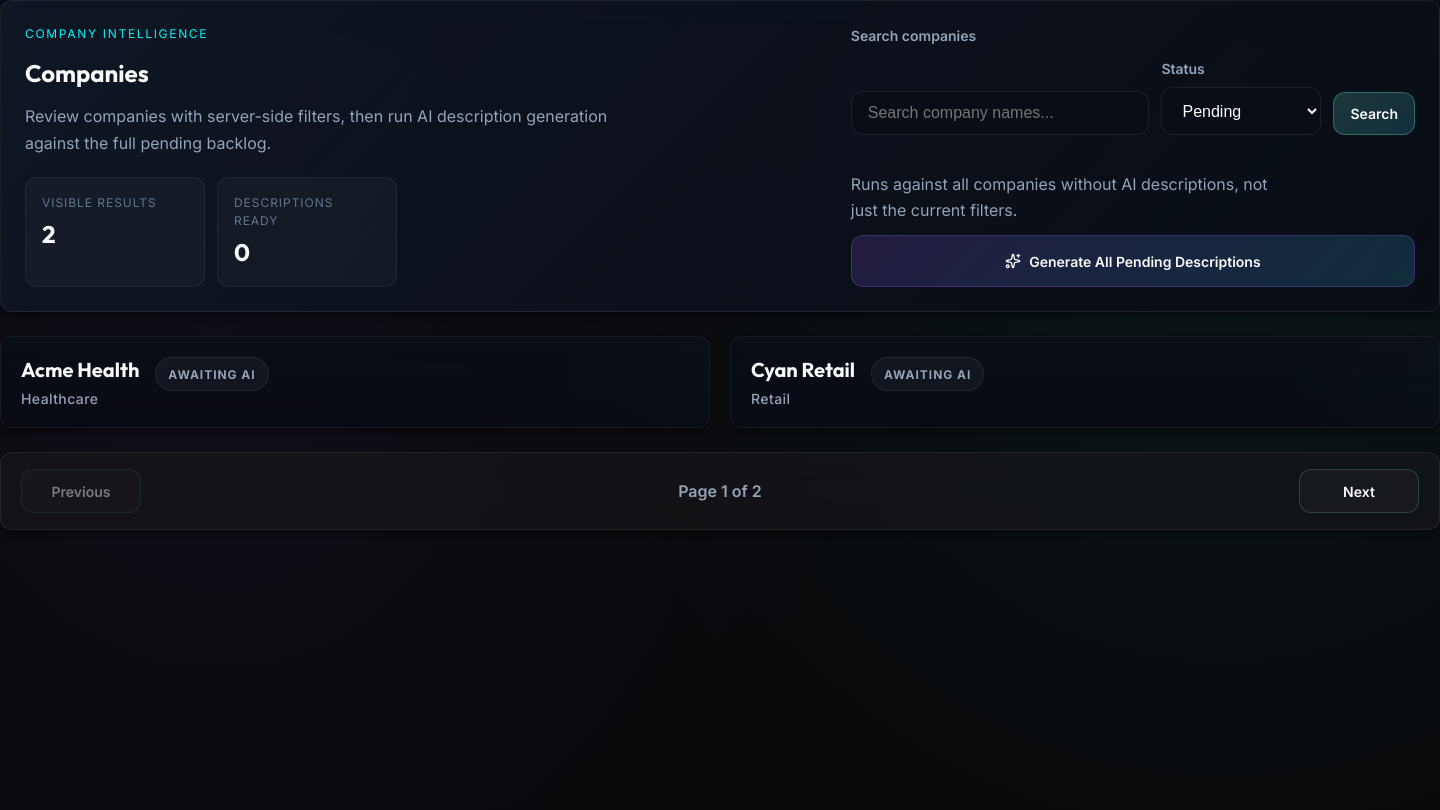
CompaniesPage › creates a persisted global run and refreshes the current page after completion
Expected: the heading "Acme Health" is shown, top-left (21, 357), bottom-right (139, 382)
Click the button "Generate All Pending Descriptions" at (1133, 261), box top-left (851, 235), bottom-right (1415, 287)
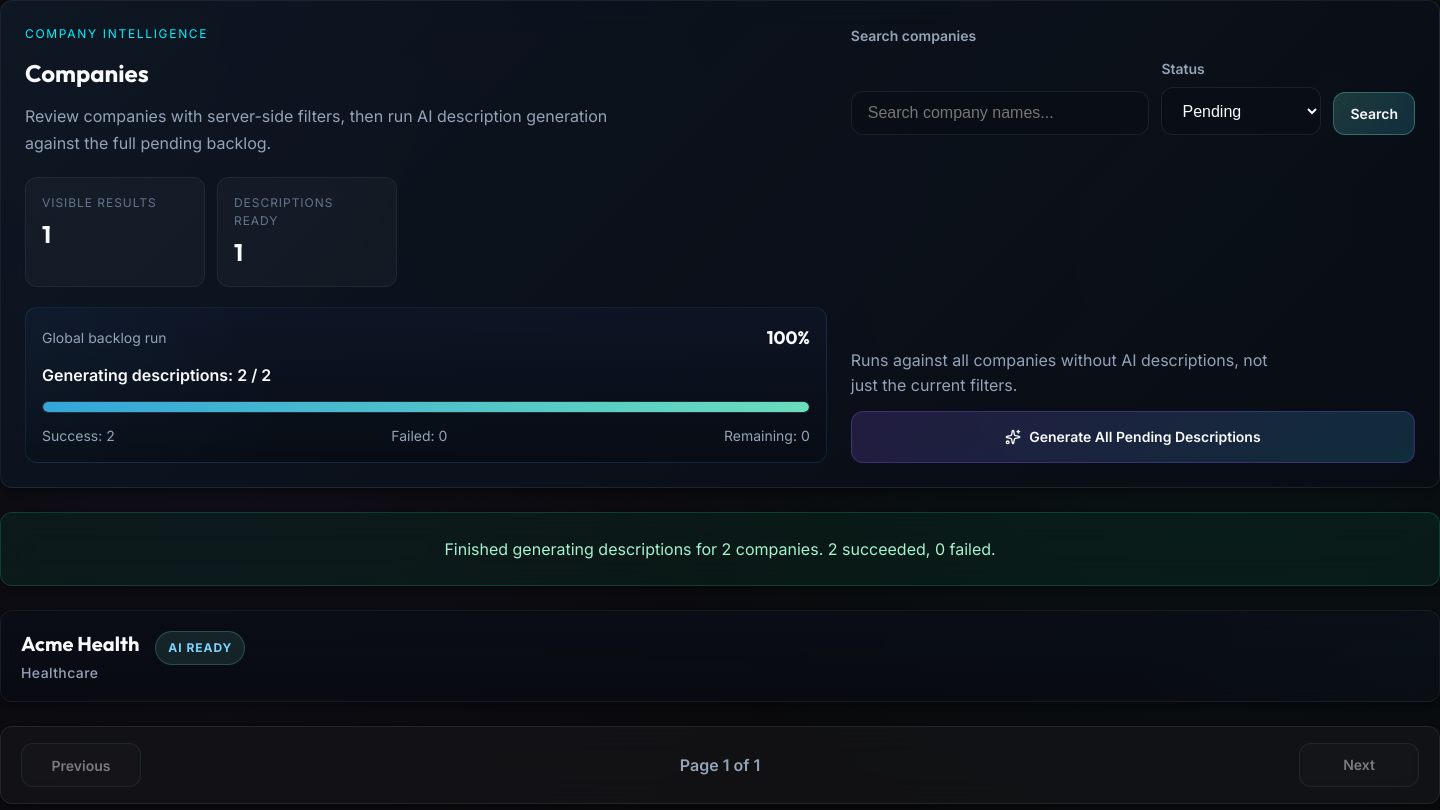
Expected: the text "Global backlog run" is shown, top-left (42, 327), bottom-right (166, 348)
Expected: the text "Generating descriptions: 2 / 2" is shown, top-left (42, 365), bottom-right (271, 385)
Expected: the text "Finished generating descriptions for 2 companies. 2 succeeded, 0 failed." is shown, top-left (0, 512), bottom-right (1439, 586)
Click the button with aria-label "open details for acme health" at (80, 643), box top-left (0, 610), bottom-right (1439, 702)
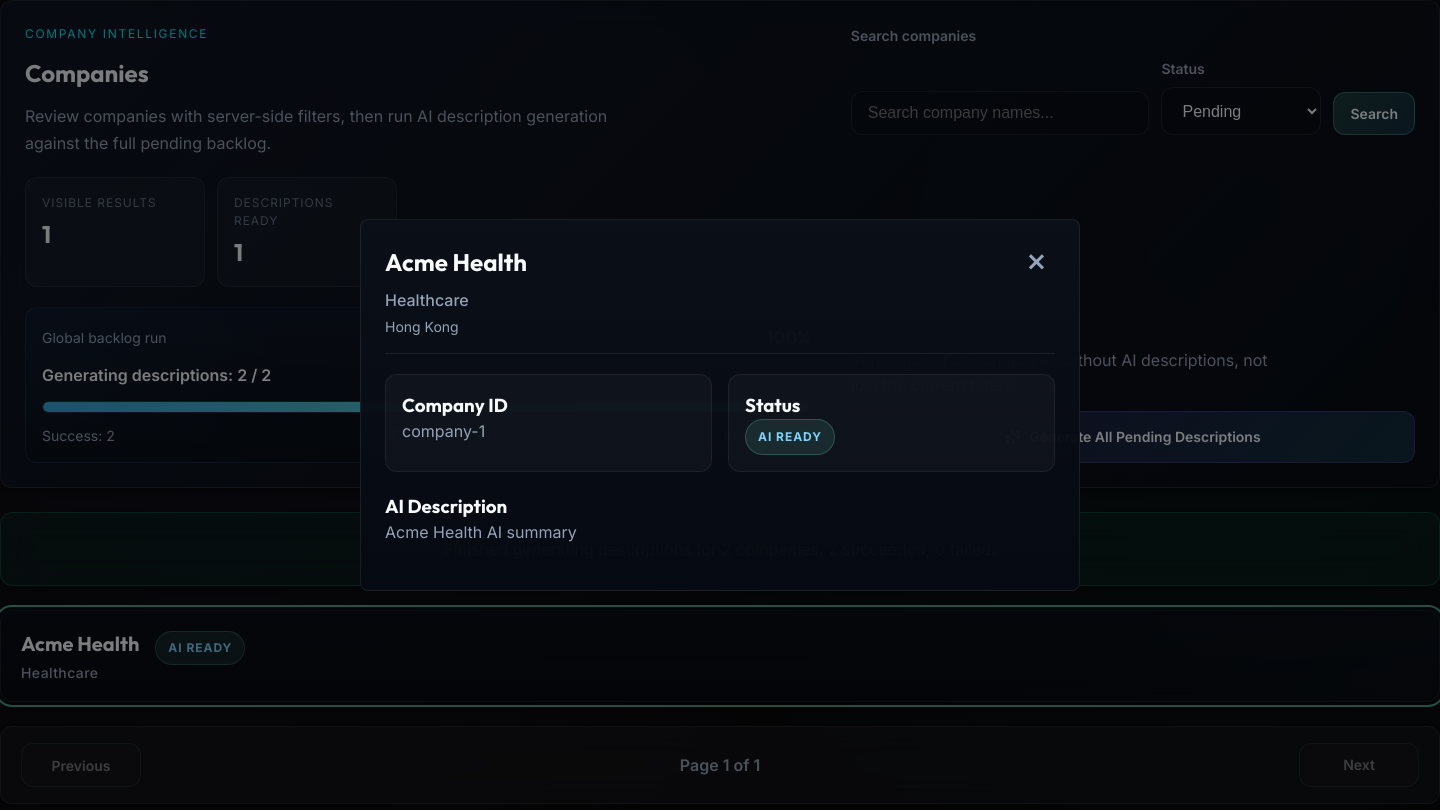
Expected: the text "Acme Health AI summary" is shown, top-left (385, 522), bottom-right (577, 542)
